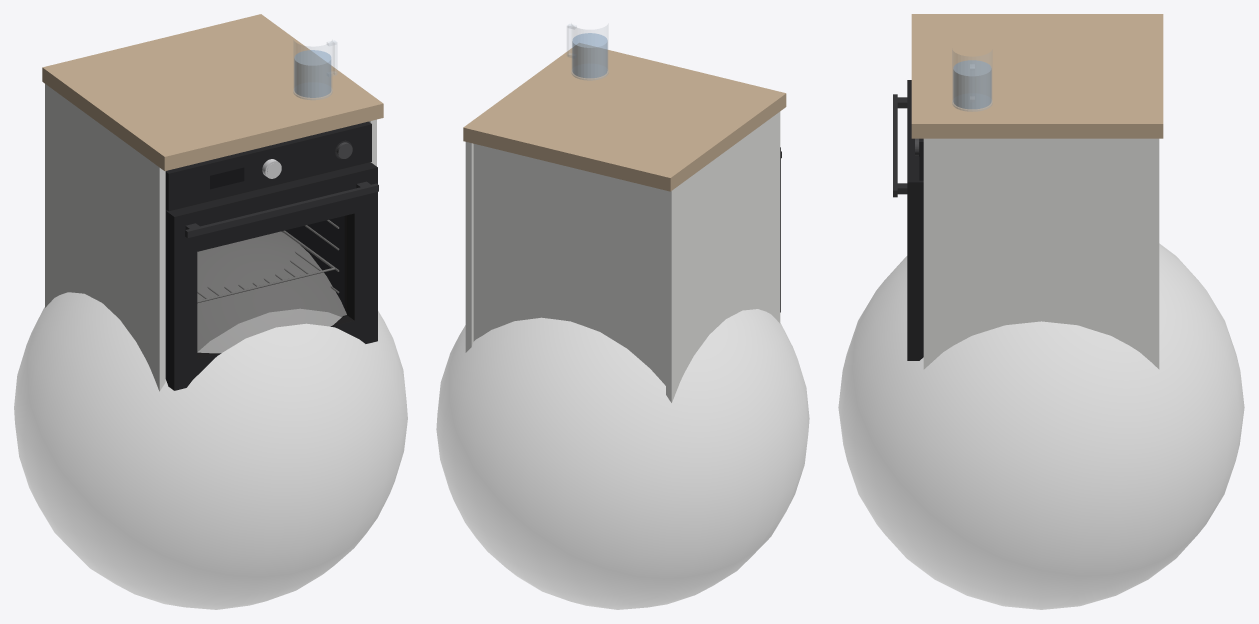
3 views of the same model, side by side, from view 1: azimuth 30°, elevation 25°; view 2: azimuth 150°, elevation 25°; view 3: azimuth 270°, elevation 25° (orthographic). The views are drawn at different scales.
Visible parts, largest first — view 1: Steam_0, Door, Worktop, Cabinet, ControlPanel, Cavity, Jug, JugWater, WireShelf, Bezel; view 2: Steam_0, Cabinet, Worktop, Jug, JugWater; view 3: Steam_0, Cabinet, Worktop, Door, Jug, JugWater.
Boxes of the visible parts, <box> form: Steam_0: <box>14,231,407,609</box>; Door: <box>166,162,378,390</box>; Worktop: <box>42,14,383,170</box>; Cabinet: <box>45,84,376,391</box>; ControlPanel: <box>165,121,371,211</box>; Cavity: <box>285,216,344,307</box>; Jug: <box>293,40,336,99</box>; JugWater: <box>294,50,330,97</box>; WireShelf: <box>197,230,335,302</box>; Bezel: <box>165,209,346,380</box>; Steam_0: <box>436,309,809,609</box>; Cabinet: <box>465,111,780,402</box>; Worktop: <box>463,43,786,191</box>; Jug: <box>567,24,608,80</box>; JugWater: <box>572,33,607,77</box>; Steam_0: <box>838,243,1244,609</box>; Cabinet: <box>923,138,1159,369</box>; Worktop: <box>911,14,1163,138</box>; Door: <box>893,80,923,360</box>; Jug: <box>952,50,992,111</box>; JugWater: <box>953,60,991,108</box>.
Size of the model in its own units: 1 by 1.57 by 1.
